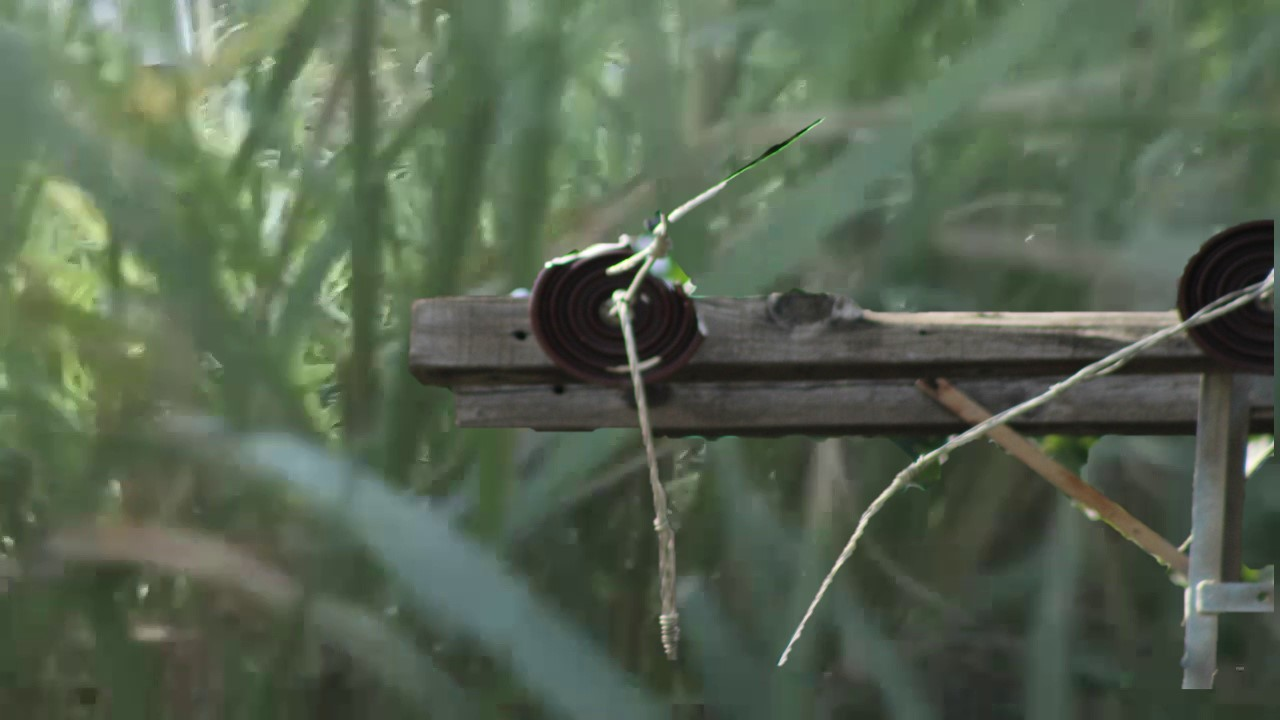defect_disc: (528, 230, 709, 394)
